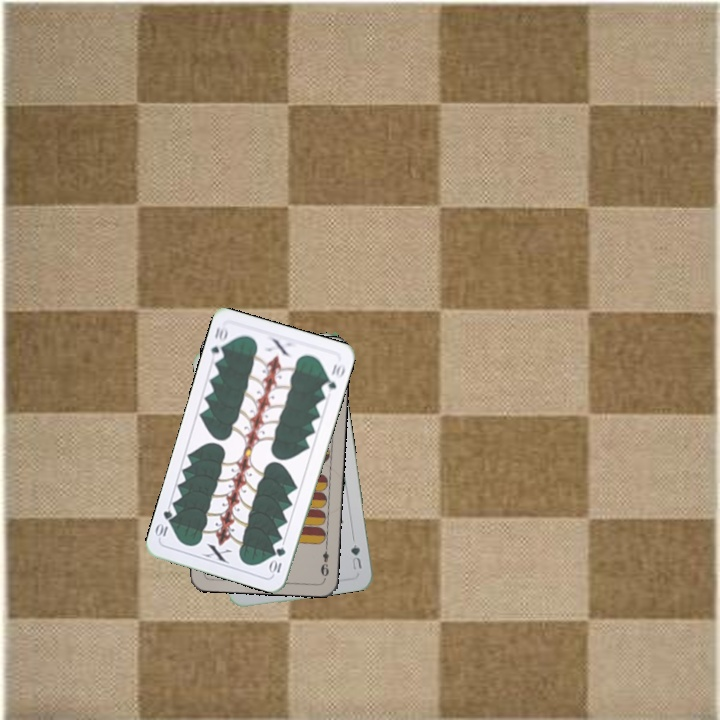E9: (316, 540, 332, 579)
G10: (207, 322, 231, 363), (266, 543, 288, 577)
GU: (346, 540, 364, 573)
